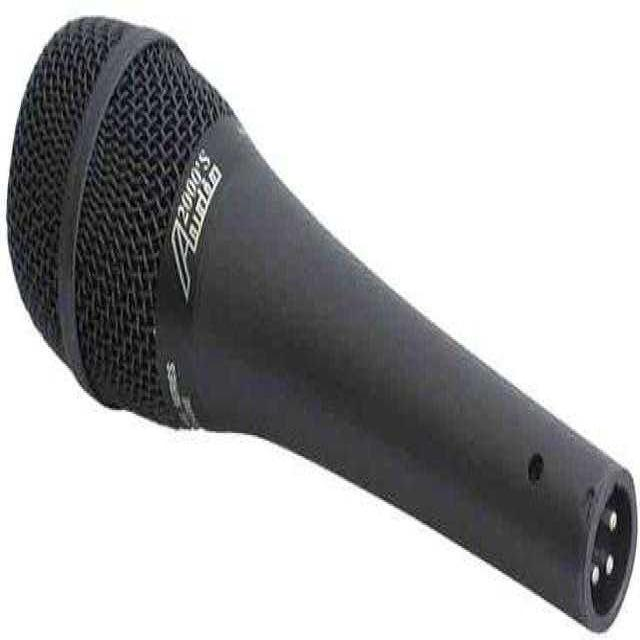microphone: (7, 19, 592, 622)
